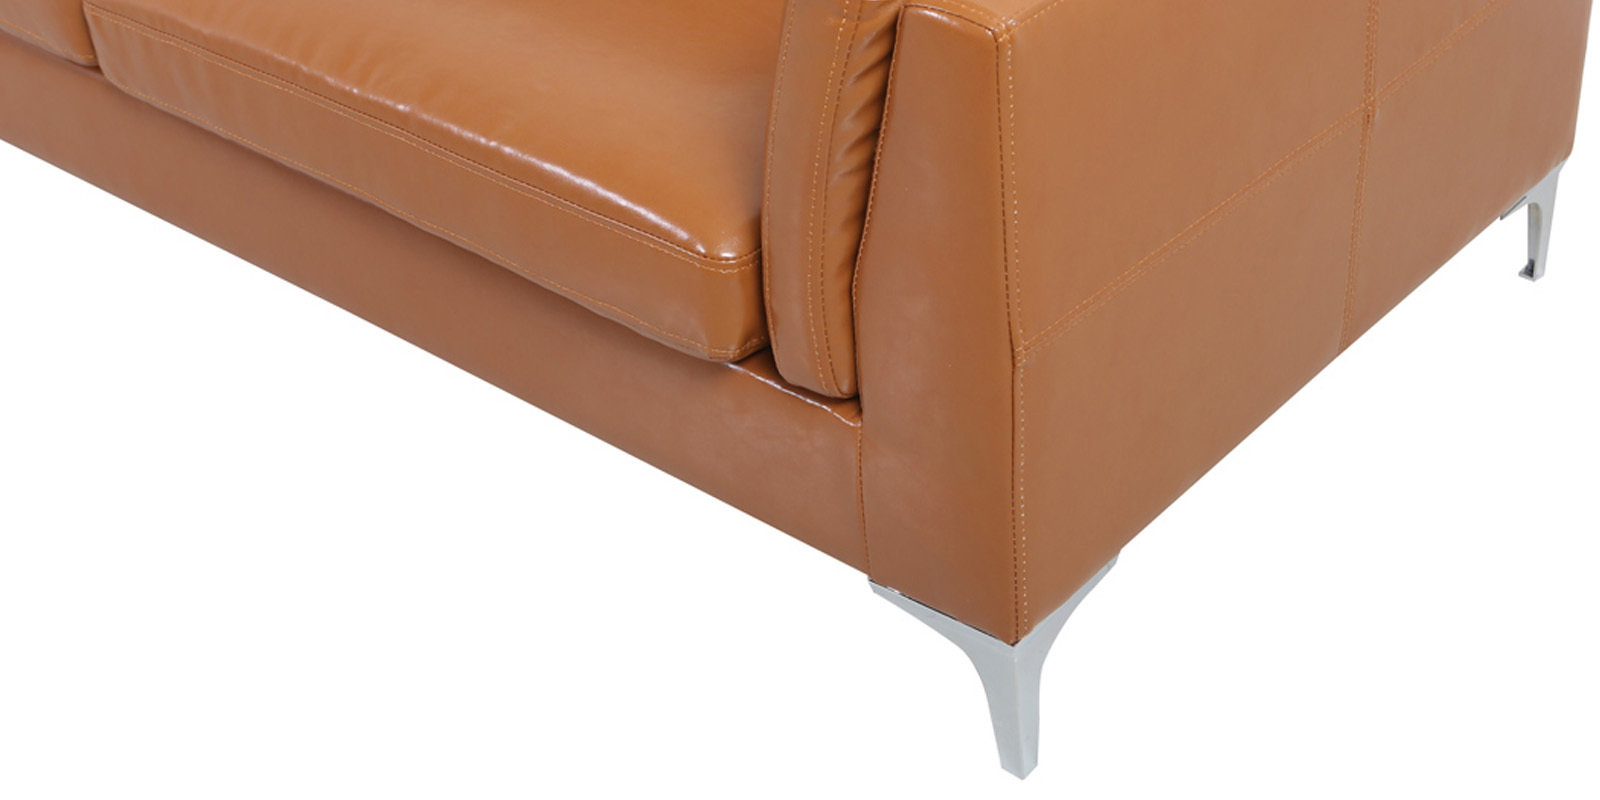Forma Three Seater Sofa in Camel Colour by Zofa: (5, 3, 1599, 780)
